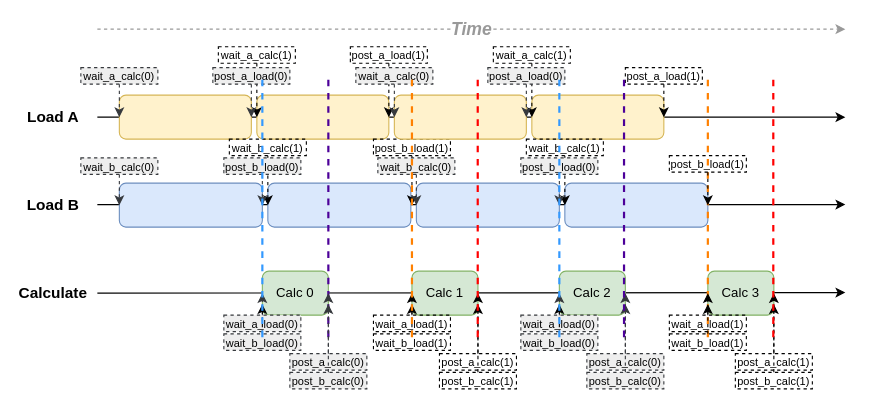
This 873x408 diagram has some shape labels left out. Each missing label, with the centre of its shape:
Load A 0: [184,116]
Load A 1: [322,116]
Load A 2: [459,116]
Load A 3: [597,116]
Load B 0: [190,204]
Load B 1: [339,204]
Load B 2: [487,204]
Load B 3: [636,204]
